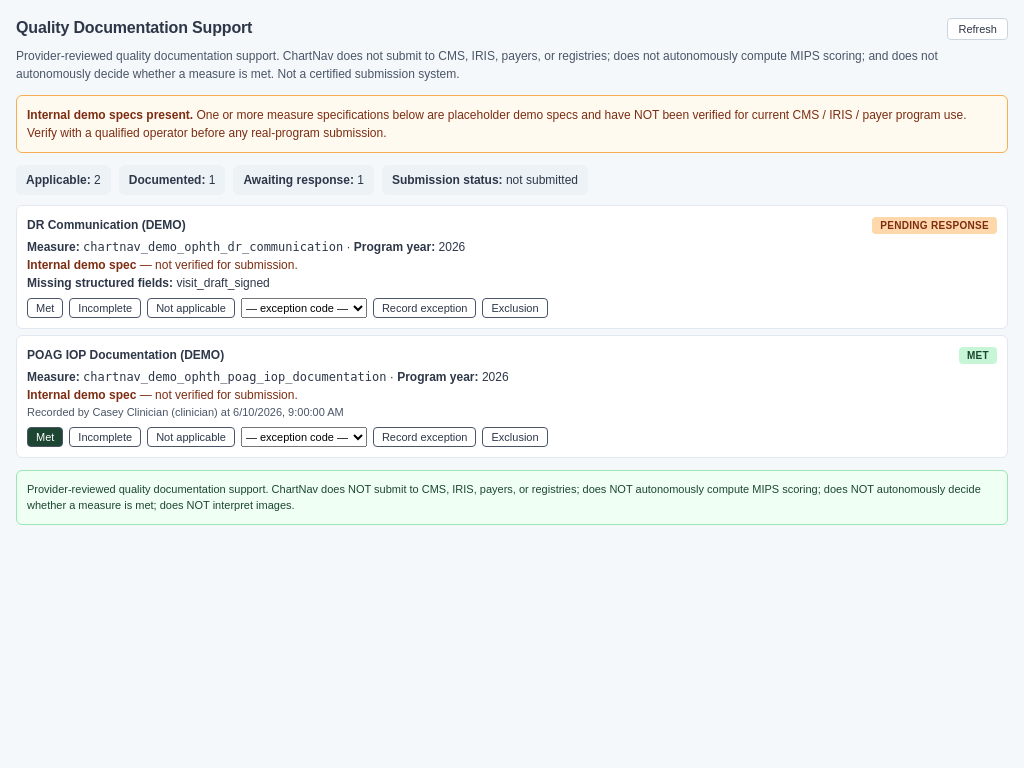
QualityIntelligencePanel — record response › surfaces submit errors in inline banner
This screenshot has width=1024, height=768.
Step 1. Click the button with test id "quality-intelligence-met-btn-chartnav_demo_ophth_dr_communication" → (45, 308), box x1=27 y1=298 x2=63 y2=318
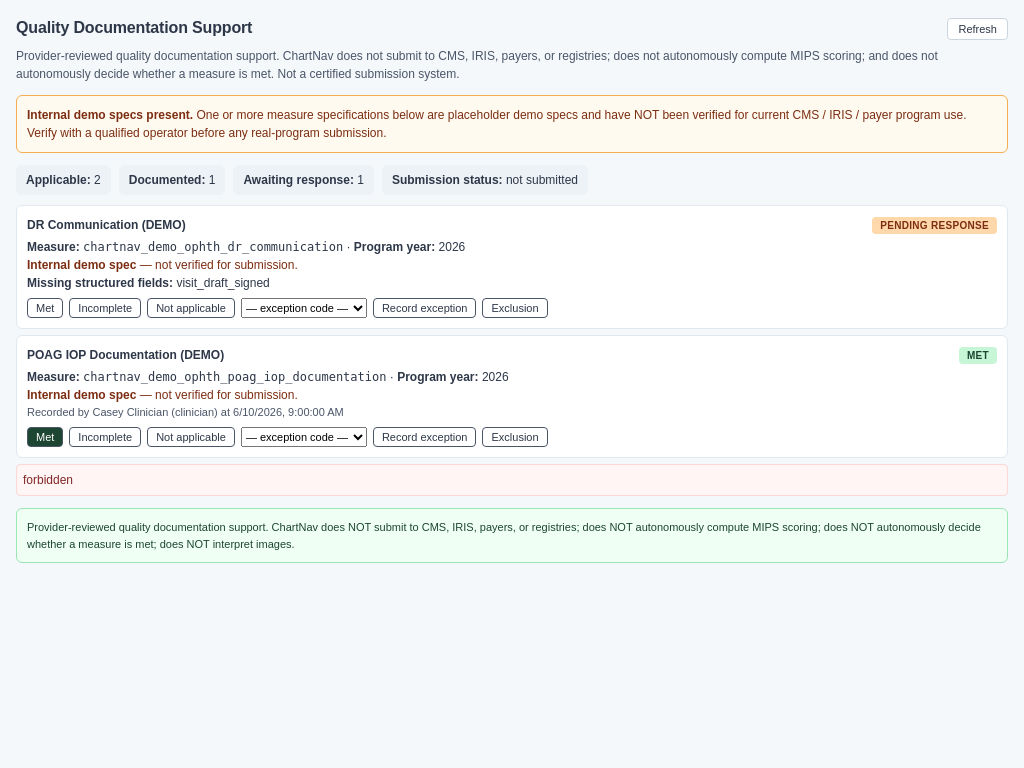
Now the text "forbidden" is shown, box x1=16 y1=464 x2=1008 y2=496
Now the text with test id "quality-intelligence-submit-error" reads "forbidden", box x1=23 y1=473 x2=73 y2=487
